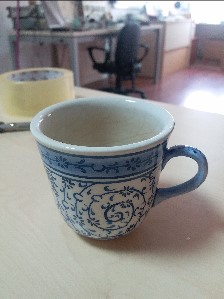cup: (31, 92, 208, 243)
